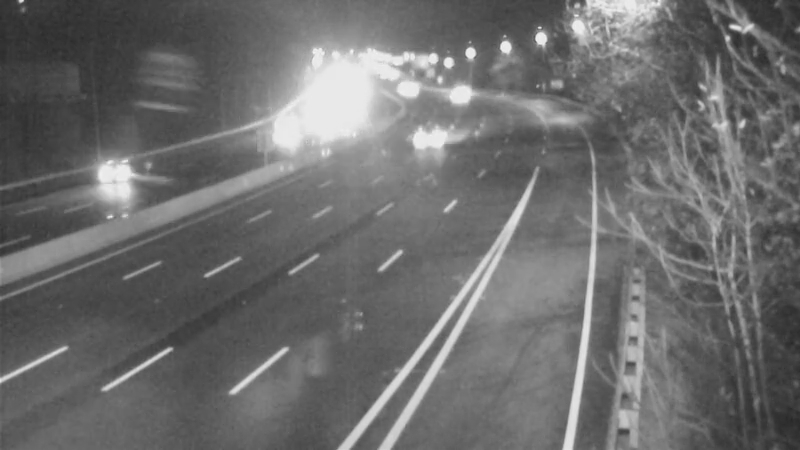vehicle: (68, 137, 148, 217), (379, 58, 429, 108), (387, 64, 437, 114), (425, 63, 475, 113), (437, 70, 487, 120), (403, 112, 453, 162), (261, 107, 311, 157)
